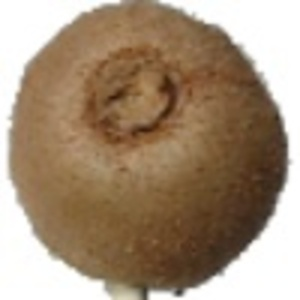kiwi: (5, 1, 290, 300)
